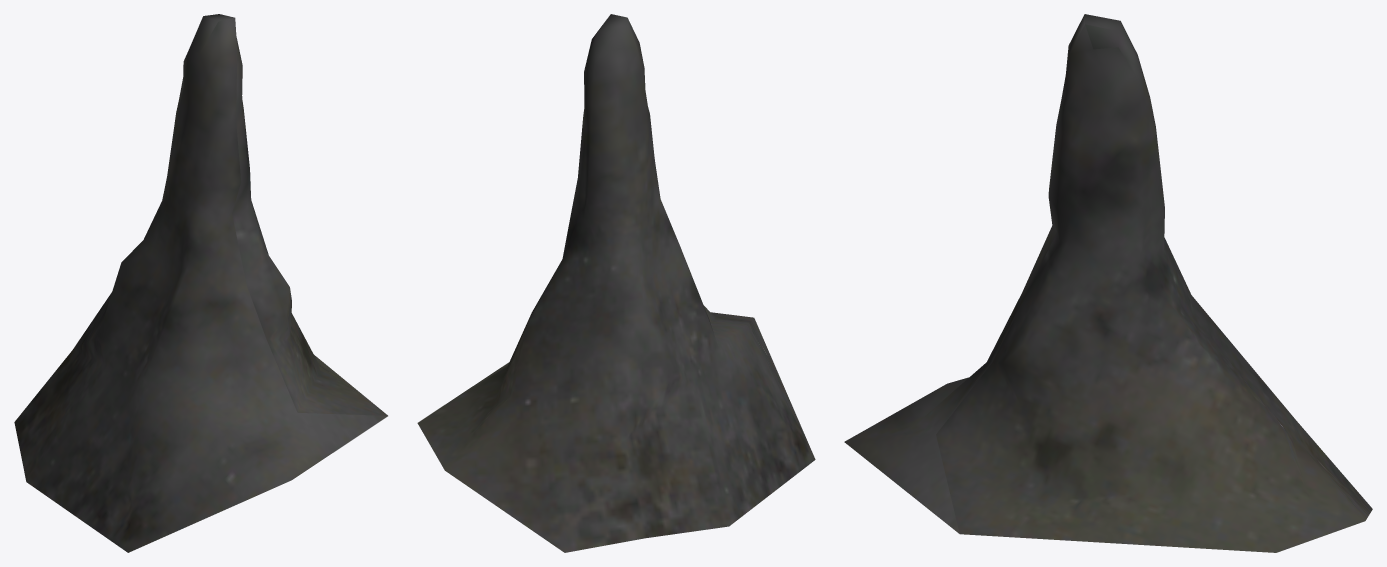
The model's file is rock_forest_stalgamite05.DAE.
The picture shows the model from 3 angles, left to right: view 1: azimuth 30°, elevation 25°; view 2: azimuth 150°, elevation 25°; view 3: azimuth 270°, elevation 25°; orthographic projection. The views are drawn at different scales.
Visible parts, largest first — view 1: Object006; view 2: Object006; view 3: Object006.
Part boxes in pixels (box(x1,y1,x2,y2)): Object006: box(14, 14, 387, 552); Object006: box(417, 14, 815, 552); Object006: box(844, 14, 1372, 552).
Size of the model in its own units: 0.6364 by 0.9839 by 0.8719.
